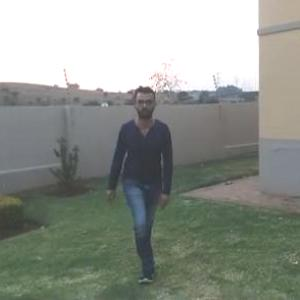follow: (115, 79, 172, 284)
